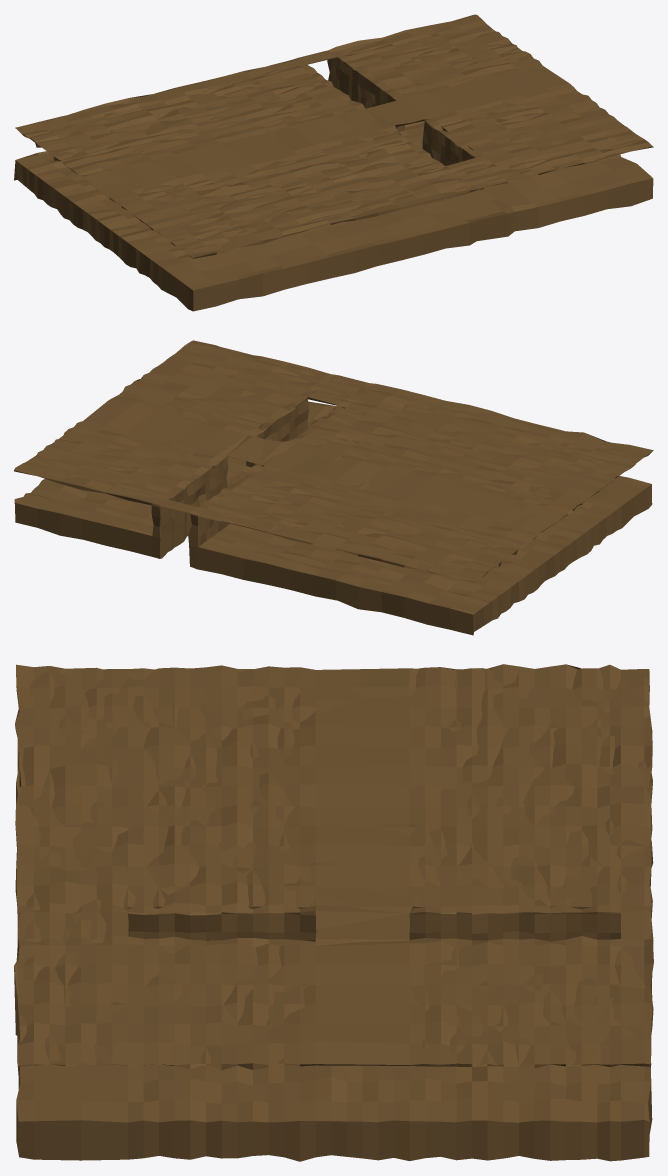
The model's file is Floor and underground.fbx.
3 renders of one model, top to bottom at view 1: azimuth 30°, elevation 25°; view 2: azimuth 150°, elevation 25°; view 3: azimuth 270°, elevation 25°, orthographic. The views are drawn at different scales.
Visible parts, largest first — view 1: underground entrance walls.002; view 2: underground entrance walls.002; view 3: underground entrance walls.002.
Part boxes in pixels (x1,y1,x2,y2): underground entrance walls.002: (14, 14, 653, 311); underground entrance walls.002: (14, 340, 653, 635); underground entrance walls.002: (14, 664, 653, 1161).
Size of the model in its own units: 6041 by 4090 by 728.
